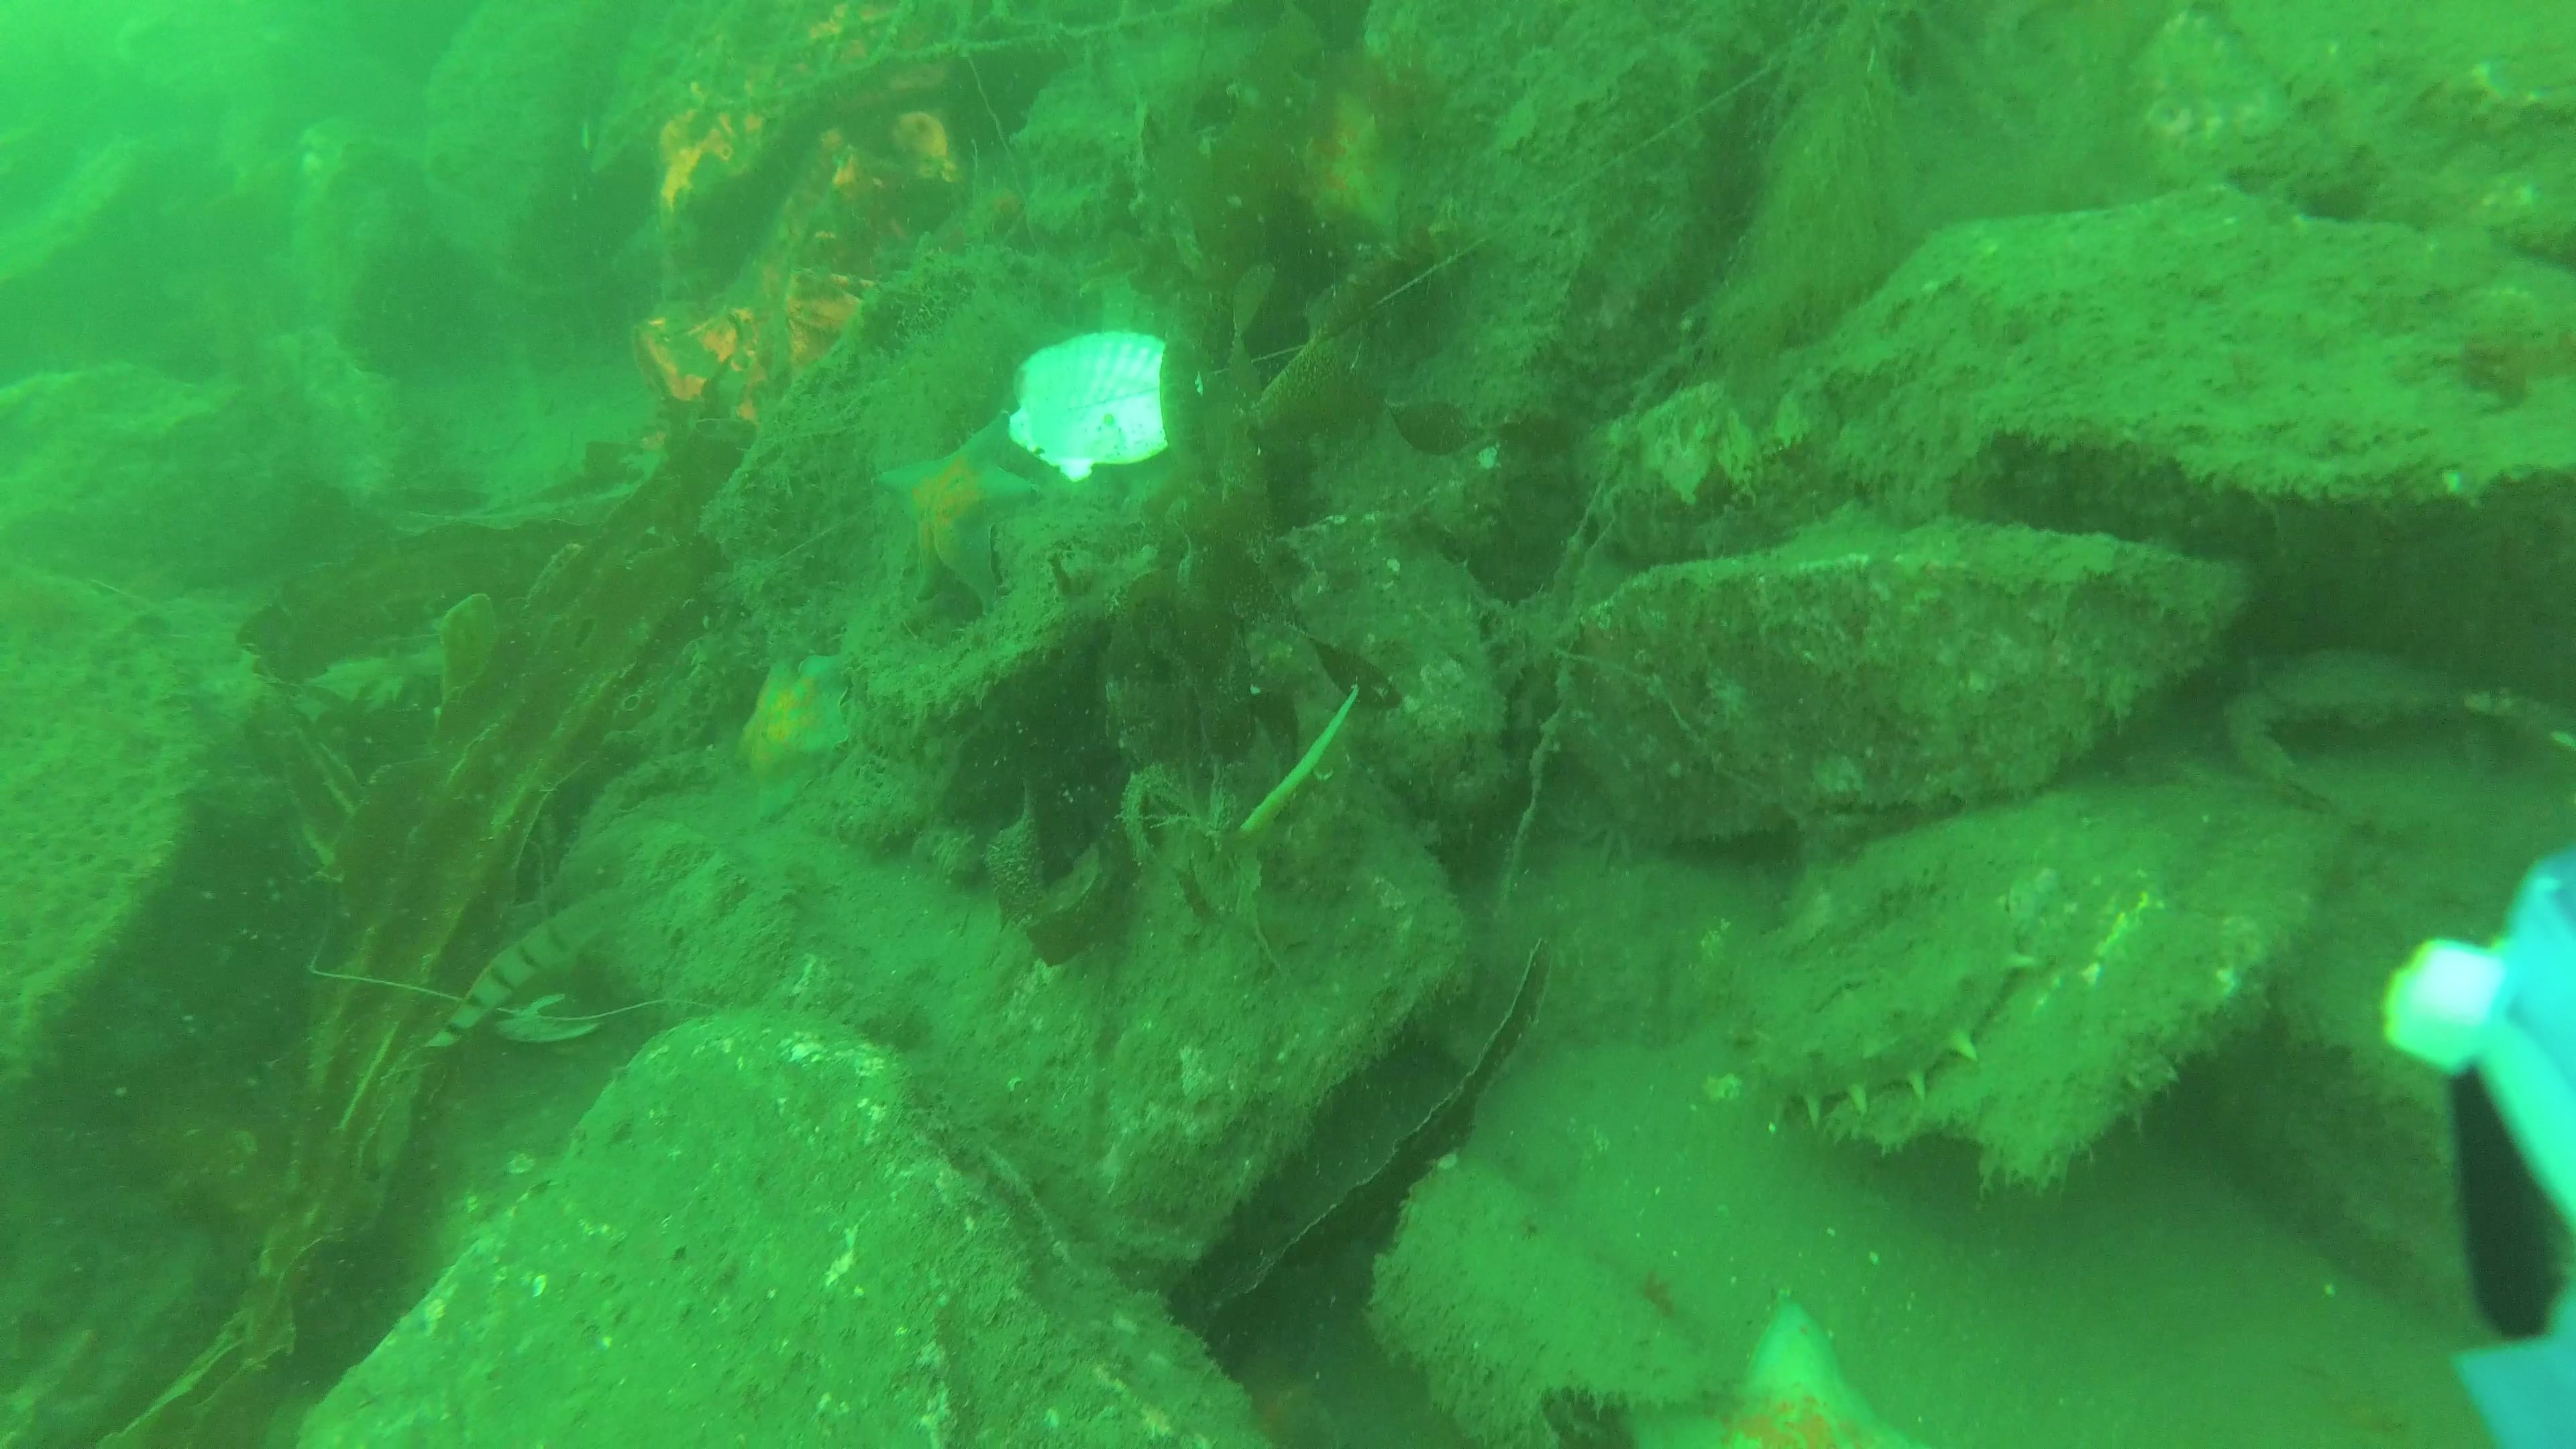holothurian: (1755, 895, 2033, 1120)
starfish: (878, 418, 1035, 605), (1730, 1299, 1913, 1449), (734, 660, 856, 823)
